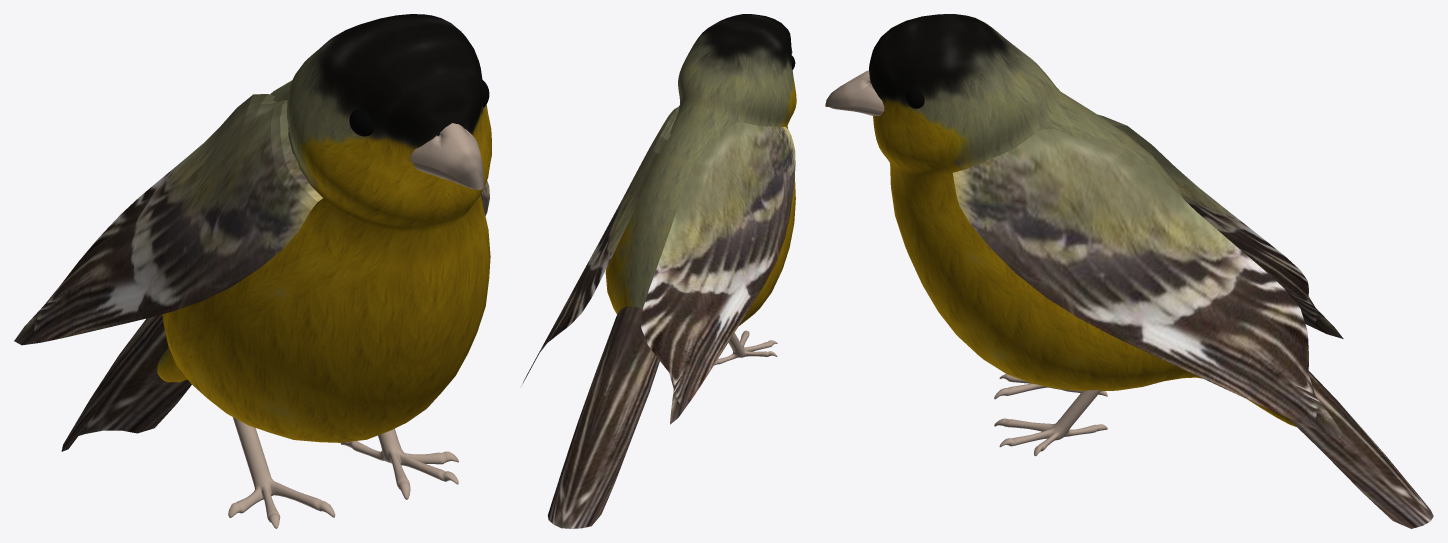
Rendered from Jilguero aliblanco.glb.
The picture shows the model from 3 angles, left to right: view 1: azimuth 30°, elevation 25°; view 2: azimuth 150°, elevation 25°; view 3: azimuth 270°, elevation 25°; orthographic projection. The views are drawn at different scales.
Parts seen in each view (by area): view 1: Spinus psaltria; view 2: Spinus psaltria; view 3: Spinus psaltria.
Boxes of the visible parts, x1=… form: Spinus psaltria: x1=14, y1=14, x2=491, y2=528; Spinus psaltria: x1=521, y1=14, x2=796, y2=528; Spinus psaltria: x1=825, y1=14, x2=1433, y2=528.
Bounding box in the file's own units: 3.91 × 8.36 × 9.37.
Materials: 4 (4 with a texture image).
